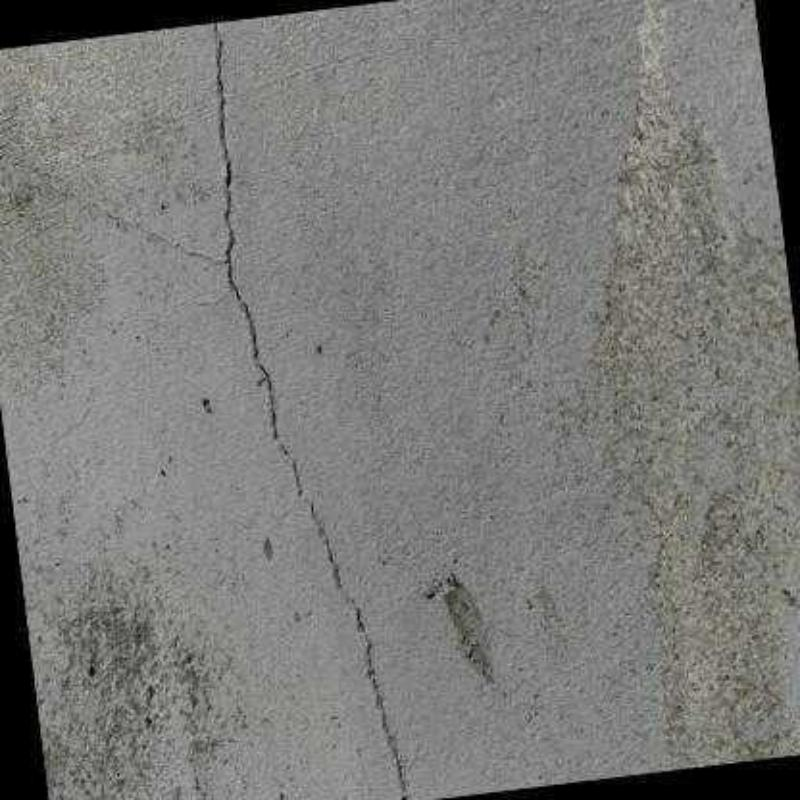crack: (212, 21, 408, 799)
